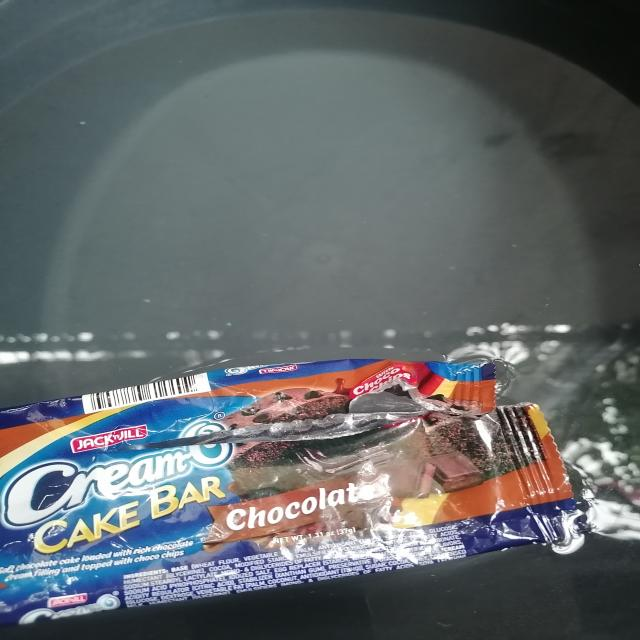Plastic Wrapper: (0, 360, 588, 624)
